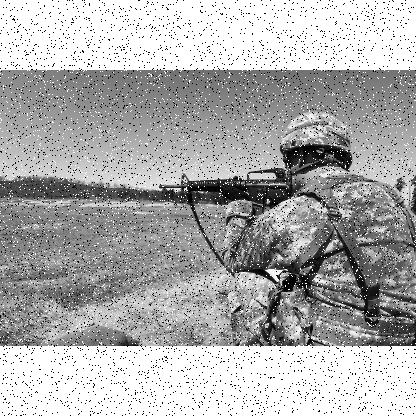gun: (160, 155, 322, 238)
